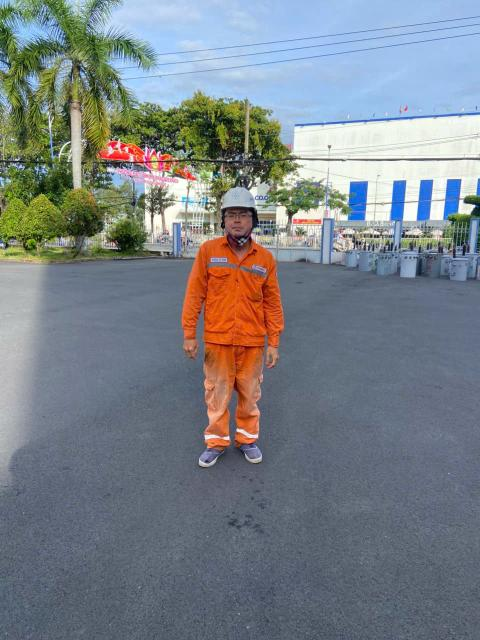helmet: (214, 182, 261, 217)
shoes: (193, 437, 230, 471), (231, 435, 268, 469)
